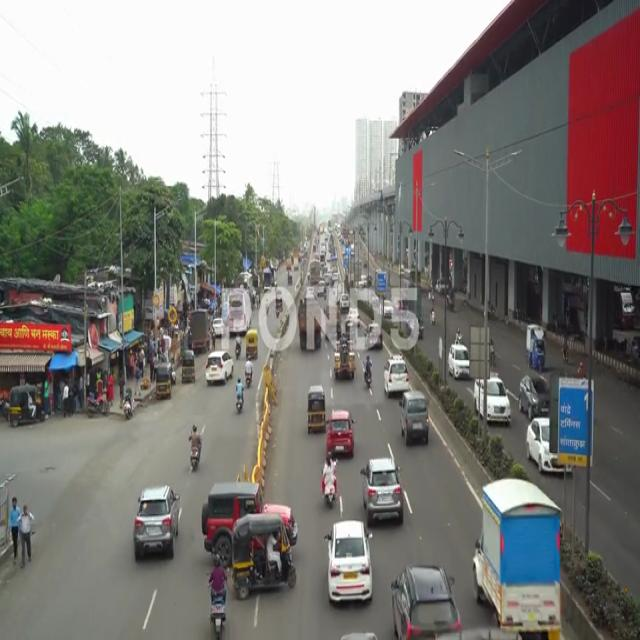car: (326, 513, 380, 610), (133, 487, 181, 564)
motorbike: (189, 413, 203, 472)
rikshaw: (234, 513, 305, 602)
truck: (471, 478, 562, 639)
